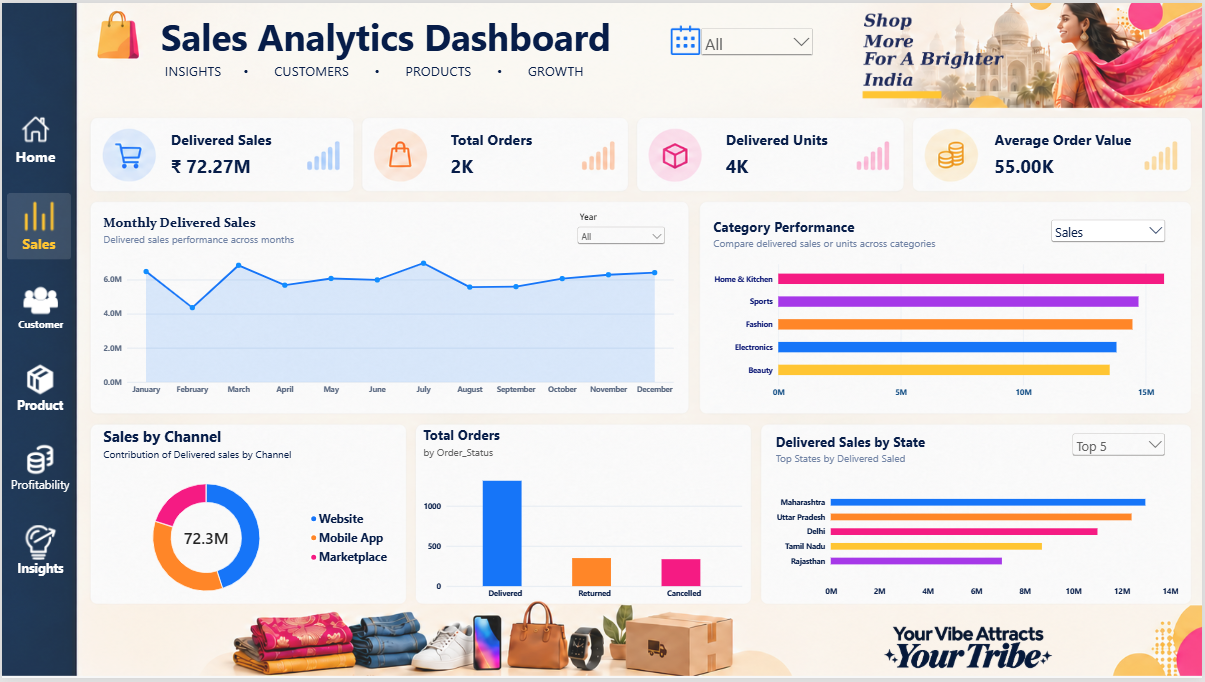

This screenshot's page, from the dashboard's own definition file:
{"tool":"powerbi","page":{"name":"Sales","canvas":[1920,1080],"ordinal":1},"visuals":[{"type":"textbox","box":[254,14,736,150],"z":0},{"type":"cardVisual","fields":{"Data":["1_Sales_Analytics.Delivered Sales"]},"box":[253.2,187.3,212,107],"z":1000},{"type":"cardVisual","fields":{"Data":["1_Sales_Analytics.Total Orders"]},"box":[701.9,187.3,212,107],"z":2000},{"type":"cardVisual","fields":{"Data":["1_Sales_Analytics.Delivered Units"]},"box":[1142.4,187.3,212,107],"z":3000},{"type":"cardVisual","fields":{"Data":["1_Sales_Analytics.Average Delivered Order Value"]},"box":[1572.6,187.3,261.4,107],"z":4000},{"type":"lineChart","title":"Monthly Delivered Sales","fields":{"Category":["1_Sales_Analytics.Order_Date.Variation.Date Hierarchy.Year","1_Sales_Analytics.Order_Date.Variation.Date Hierarchy.Month"],"Y":["1_Sales_Analytics.Delivered Sales"]},"box":[145.4,323.5,945.9,323.5],"z":5000},{"type":"slicer","fields":{"Values":["1_Sales_Analytics.Order_Date.Variation.Date Hierarchy.Year"]},"box":[915.2,333.7,149.5,61.4],"z":6000},{"type":"clusteredBarChart","title":"Category Performance","fields":{"Category":["1_Sales_Analytics.Category"],"Y":["1_Sales_Analytics.Delivered Sales"]},"box":[1121.9,327.6,775.9,323.5],"z":7000},{"type":"slicer","fields":{"Values":["Category Metric.Category Metric"]},"box":[1674.7,341.9,192.5,45],"z":8000},{"type":"donutChart","title":"Sales by Channel","fields":{"Category":["1_Sales_Analytics.Sales_Channel"],"Y":["1_Sales_Analytics.Delivered Sales"]},"box":[146.6,662.7,495.5,316.7],"z":9000},{"type":"clusteredColumnChart","fields":{"Category":["1_Sales_Analytics.Order_Status"],"Y":["1_Sales_Analytics.Total Orders"]},"box":[658,662,542,312],"z":10000},{"type":"clusteredBarChart","fields":{"Category":["1_Sales_Analytics.State"],"Y":["1_Sales_Analytics.Delivered Sales"]},"box":[1222,672,676,298],"z":11000},{"type":"actionButton","box":[8.9,164.4,91.1,108.9],"z":12000},{"type":"actionButton","box":[8.9,433.3,102.2,106.7],"z":13000},{"type":"actionButton","box":[8.9,562.2,102.2,108.9],"z":14000},{"type":"actionButton","box":[0,685,120,115],"z":15000},{"type":"actionButton","box":[8.9,304.4,102.2,106.7],"z":16000},{"type":"actionButton","box":[8.8,821.2,102.5,111.2],"z":17000},{"type":"slicer","fields":{"Values":["1_Sales_Analytics.Order_Date.Variation.Date Hierarchy.Year"]},"box":[1114,35.7,188.6,54.3],"z":18000},{"type":"image","box":[1062.4,35.6,62.9,47.4],"z":19000},{"type":"image","box":[1377.8,982.2,331.1,97.8],"z":20000},{"type":"image","box":[1377.8,8.9,224.4,137.8],"z":21000},{"type":"image","box":[1328.9,77.8,224.4,137.8],"z":22000},{"type":"slicer","fields":{"Values":["Top States.Show"]},"box":[1707.8,684.4,157.8,46.7],"z":23000}]}

Visuals, with their boxes on the page's 1920x1080 design canvas (x1, y1, x2, y2). These are canvas units, not pixel positions in the 1205x682 screenshot, which may show the page scaled, cropped or inside an application window:
textbox: {"left": 254, "top": 14, "right": 990, "bottom": 164}
cardVisual - 1_Sales_Analytics.Delivered Sales: {"left": 253, "top": 187, "right": 465, "bottom": 294}
cardVisual - 1_Sales_Analytics.Total Orders: {"left": 702, "top": 187, "right": 914, "bottom": 294}
cardVisual - 1_Sales_Analytics.Delivered Units: {"left": 1142, "top": 187, "right": 1354, "bottom": 294}
cardVisual - 1_Sales_Analytics.Average Delivered Order Value: {"left": 1573, "top": 187, "right": 1834, "bottom": 294}
"Monthly Delivered Sales" lineChart: {"left": 145, "top": 324, "right": 1091, "bottom": 647}
slicer - 1_Sales_Analytics.Order_Date.Variation.Date Hierarchy.Year: {"left": 915, "top": 334, "right": 1065, "bottom": 395}
"Category Performance" clusteredBarChart: {"left": 1122, "top": 328, "right": 1898, "bottom": 651}
slicer - Category Metric.Category Metric: {"left": 1675, "top": 342, "right": 1867, "bottom": 387}
"Sales by Channel" donutChart: {"left": 147, "top": 663, "right": 642, "bottom": 979}
clusteredColumnChart - 1_Sales_Analytics.Order_Status x 1_Sales_Analytics.Total Orders: {"left": 658, "top": 662, "right": 1200, "bottom": 974}
clusteredBarChart - 1_Sales_Analytics.State x 1_Sales_Analytics.Delivered Sales: {"left": 1222, "top": 672, "right": 1898, "bottom": 970}
actionButton: {"left": 9, "top": 164, "right": 100, "bottom": 273}
actionButton: {"left": 9, "top": 433, "right": 111, "bottom": 540}
actionButton: {"left": 9, "top": 562, "right": 111, "bottom": 671}
actionButton: {"left": 0, "top": 685, "right": 120, "bottom": 800}
actionButton: {"left": 9, "top": 304, "right": 111, "bottom": 411}
actionButton: {"left": 9, "top": 821, "right": 111, "bottom": 932}
slicer - 1_Sales_Analytics.Order_Date.Variation.Date Hierarchy.Year: {"left": 1114, "top": 36, "right": 1303, "bottom": 90}
image: {"left": 1062, "top": 36, "right": 1125, "bottom": 83}
image: {"left": 1378, "top": 982, "right": 1709, "bottom": 1080}
image: {"left": 1378, "top": 9, "right": 1602, "bottom": 147}
image: {"left": 1329, "top": 78, "right": 1553, "bottom": 216}
slicer - Top States.Show: {"left": 1708, "top": 684, "right": 1866, "bottom": 731}
